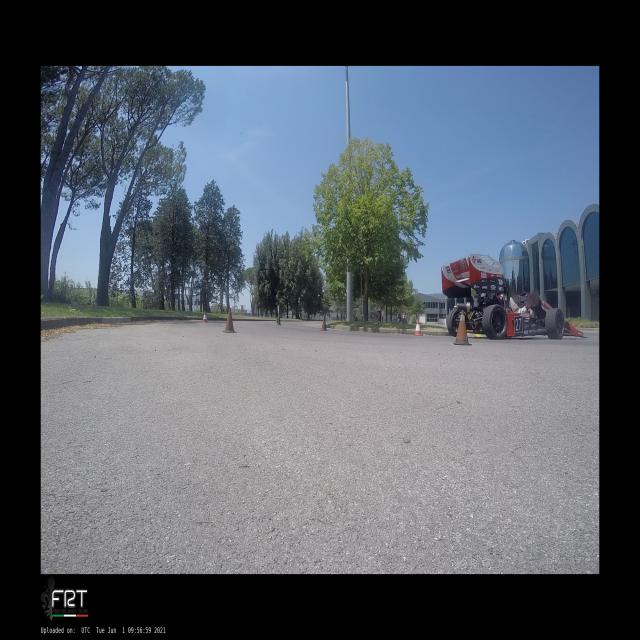orange_cone: (414, 319, 422, 335), (202, 312, 208, 324)
unknown_cone: (453, 310, 472, 346), (222, 307, 237, 333), (320, 317, 328, 331), (276, 318, 282, 325)
